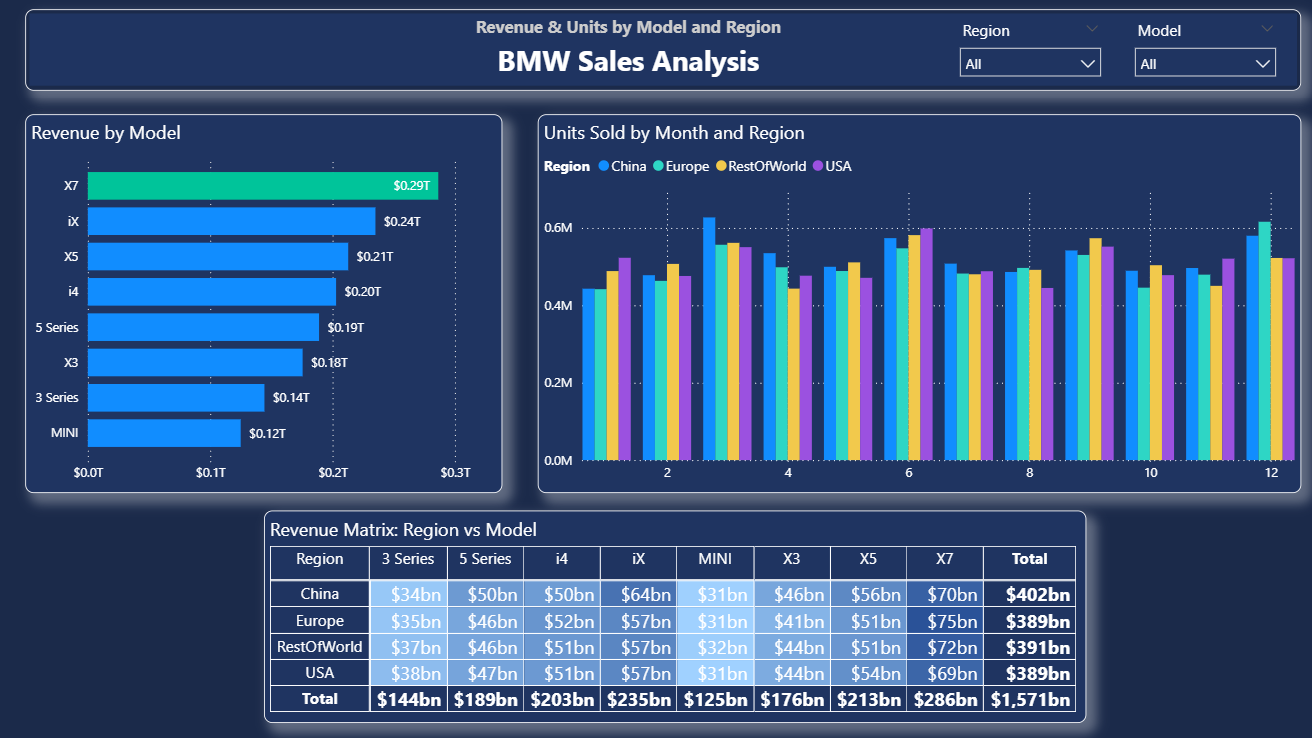

Layout of this report page (visuals, bound fields, positions):
{"tool":"powerbi","page":{"name":"Sales Analysis","canvas":[1280,720],"ordinal":1},"visuals":[{"type":"shape","box":[44,15.5,1215.5,77.4],"z":0},{"type":"textbox","box":[338.1,15.3,560.7,75.1],"z":1000},{"type":"clusteredBarChart","title":"Revenue by Model","fields":{"Category":["Dim_Model.Model"],"Y":["_Measures.Total Revenue"]},"box":[44,115.5,454.8,360.7],"z":2000},{"type":"clusteredColumnChart","title":"Units Sold by Month and Region","fields":{"Category":["Bmw Sales.Month"],"Y":["_Measures.Total Units Sold"],"Series":["Dim_Region.Region"]},"box":[532.1,115.5,727.4,360.7],"z":3000},{"type":"slicer","fields":{"Values":["Dim_Region.Region"]},"box":[923.8,20.2,154.8,65.5],"z":4000},{"type":"slicer","fields":{"Values":["Dim_Model.Model"]},"box":[1090.5,20.2,154.8,65.5],"z":5000},{"type":"pivotTable","title":"Revenue Matrix: Region vs Model","fields":{"Rows":["Dim_Region.Region"],"Columns":["Dim_Model.Model"],"Values":["_Measures.Total Revenue"]},"box":[271.4,492.9,783.3,202.4],"z":6000}]}

Visuals, with their boxes in screenshot pixels (x1, y1, x2, y2), scaled from the page's 1280x720 canvas onto the 1312x738 screenshot:
shape: [left=45, top=16, right=1291, bottom=95]
textbox: [left=347, top=16, right=921, bottom=93]
"Revenue by Model" clusteredBarChart: [left=45, top=118, right=511, bottom=488]
"Units Sold by Month and Region" clusteredColumnChart: [left=545, top=118, right=1291, bottom=488]
slicer - Dim_Region.Region: [left=947, top=21, right=1106, bottom=88]
slicer - Dim_Model.Model: [left=1118, top=21, right=1276, bottom=88]
"Revenue Matrix: Region vs Model" pivotTable: [left=278, top=505, right=1081, bottom=713]
